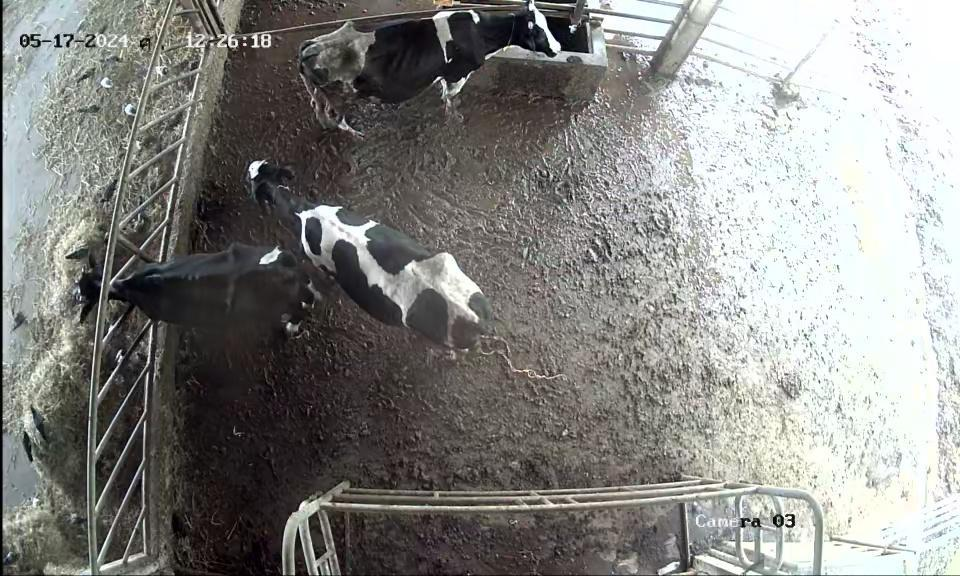eat: (67, 251, 164, 328)
stand: (248, 155, 518, 353), (282, 0, 560, 146)
